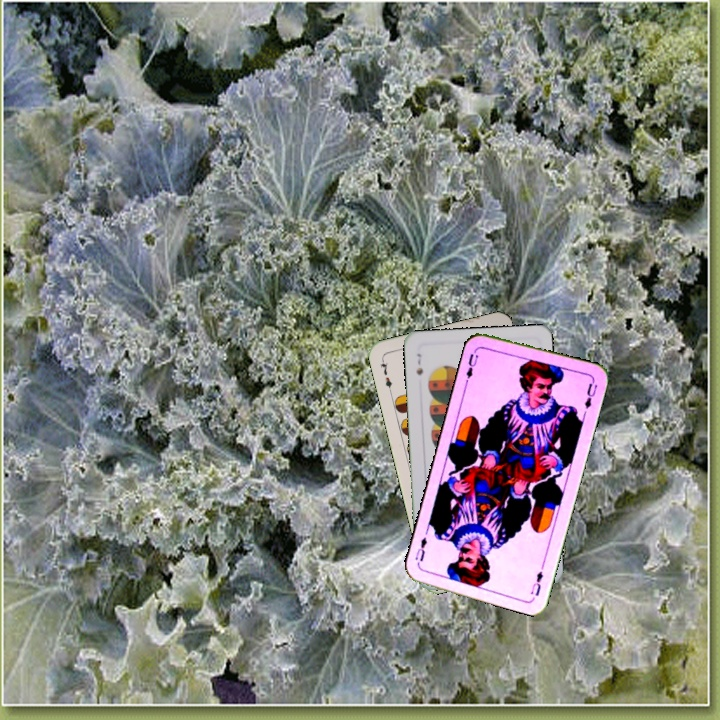E7: (376, 355, 395, 395)
EU: (460, 350, 481, 385), (527, 567, 546, 598)
S7: (412, 349, 425, 378)
